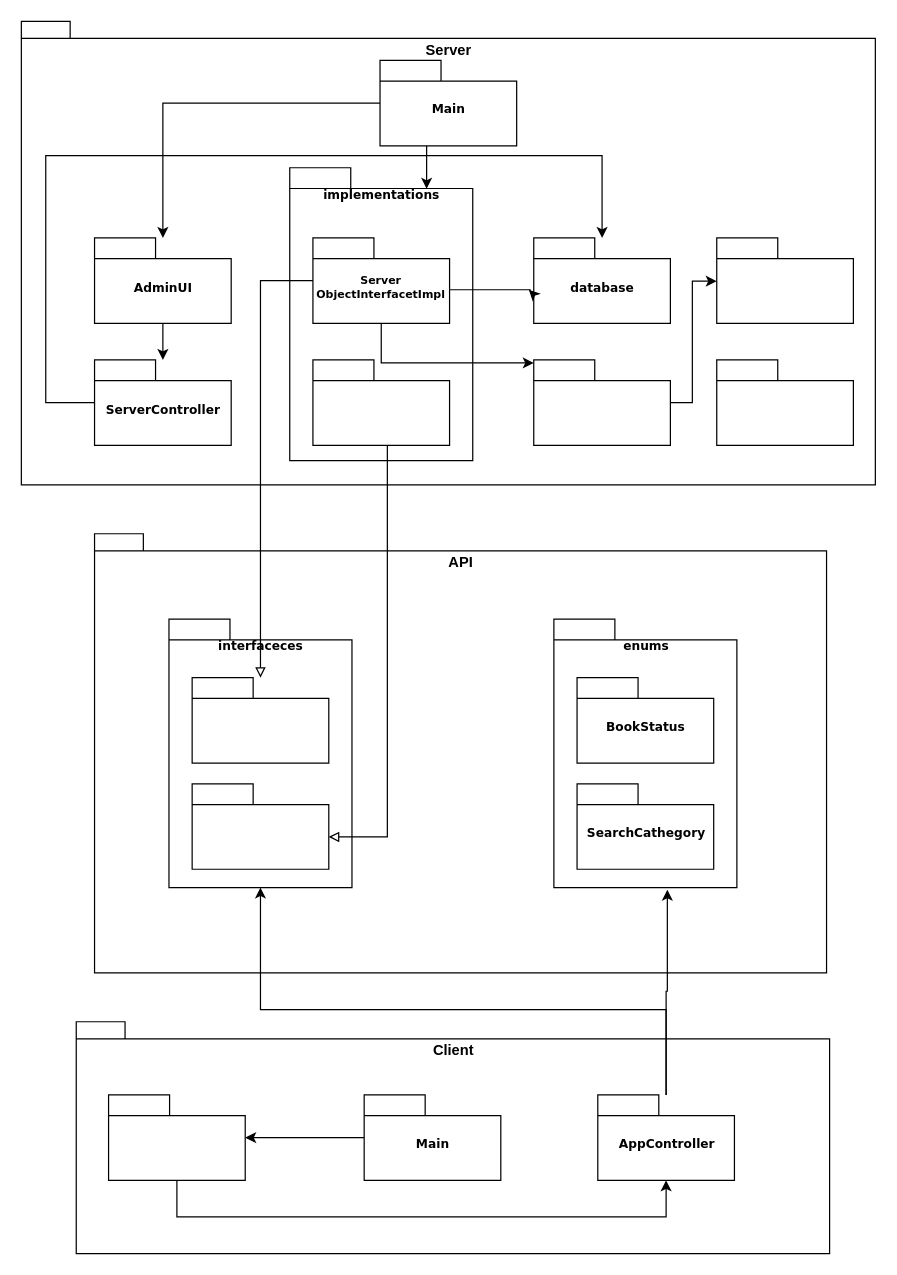
The diagram is 897 pixels wide and 1275 high, and some of its shapes have lost their labels. The shapes that lost their labels are listed below. From the top down, each one's centre as x and y in pixels, then its label:
At (x=784, y=280): "dto".
At (x=381, y=402): "BookImpl".
At (x=601, y=402): "google.books".
At (x=784, y=402): "exceptions".
At (x=260, y=719): "<<interface>> ServerObjectInterface".
At (x=260, y=826): "<<interface>> Book".
At (x=176, y=1137): "GUIApplication".
